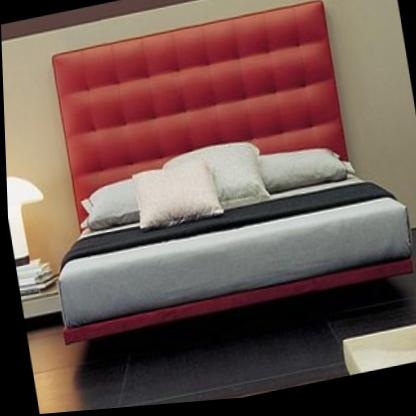Bed: (56, 100, 412, 347)
